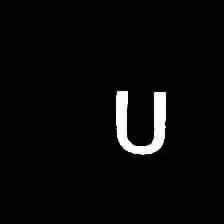LTR_U: (106, 83, 171, 160)
